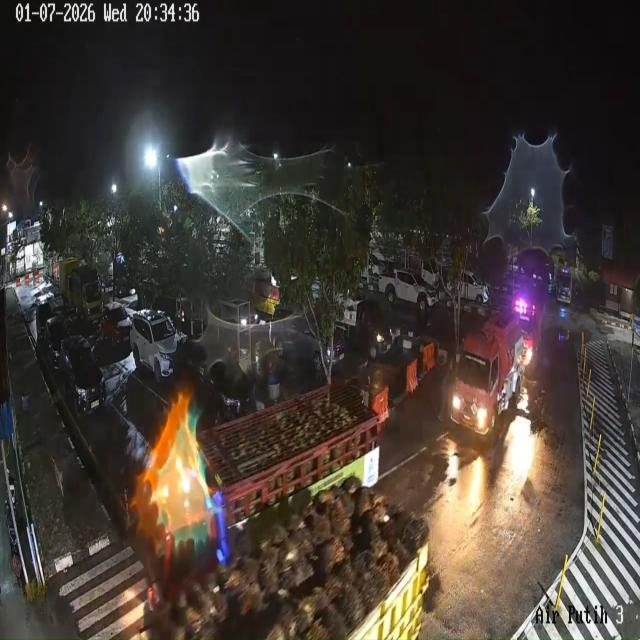Golongan IVA: (269, 304, 345, 375), (59, 336, 106, 416), (130, 310, 180, 382), (41, 315, 70, 369), (100, 301, 132, 347), (35, 300, 54, 342)
Golongan IVB: (378, 269, 439, 312)
Golongan VB: (126, 386, 388, 562), (450, 309, 525, 436), (59, 257, 102, 321)
